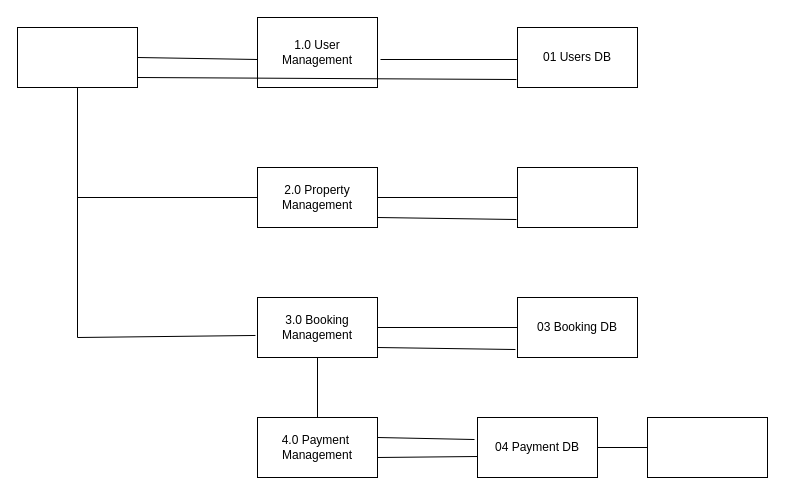
The diagram is 785 pixels wide and 495 high, and some of its shapes have lost their labels. Here are the shapes that lost their labels. From the top down, the centre of each, then its label:
At [77,57]: "User (Guest/Host/Admin)".
At [577,197]: "02 Property DB".
At [707,447]: "Payment Provider (Mpesa/Stripe)".
